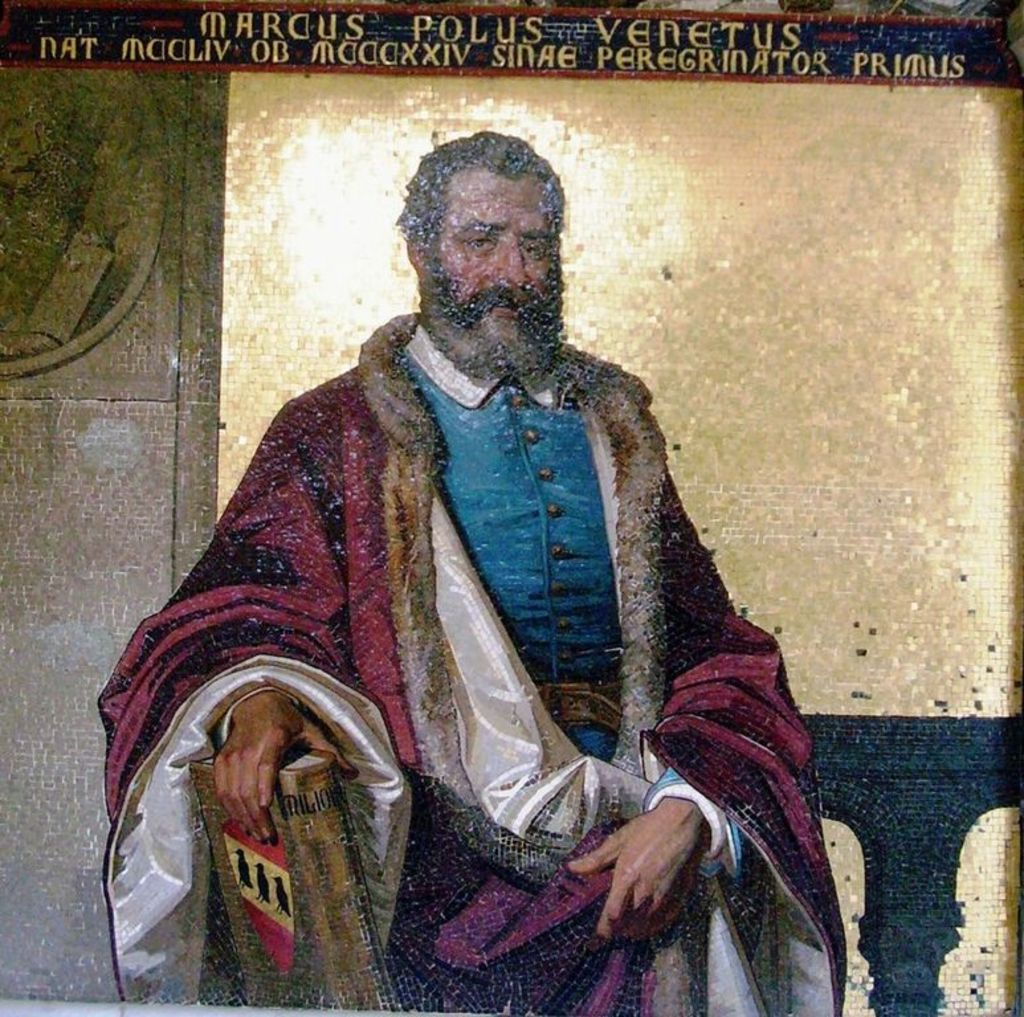face: (436, 165, 556, 352)
